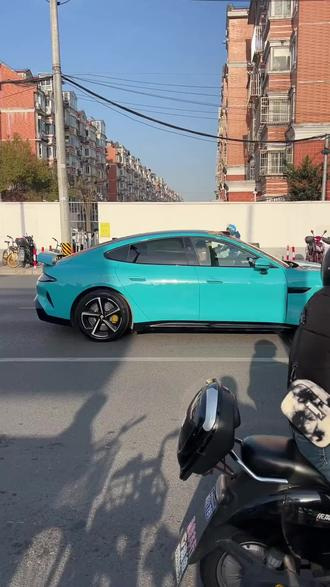su7: (28, 234, 330, 338)
